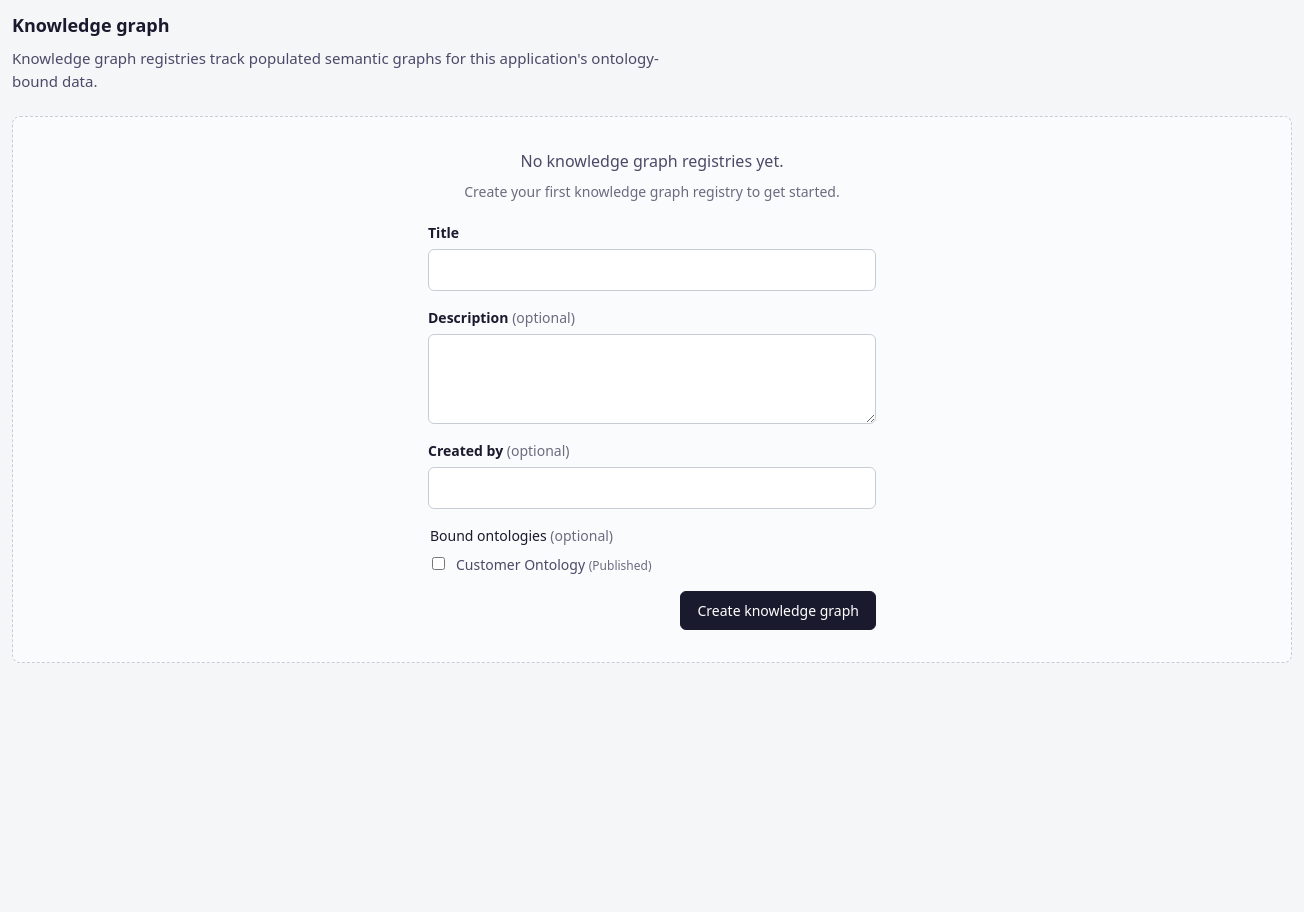
it: KnowledgeGraphsPage › creates knowledge graph from empty state and refreshes list
Check: the form named "Create knowledge graph" is shown, box [428, 222, 876, 630]
In the field labelled "Title": point(652, 270) [428, 249, 876, 291], type "New Knowledge Graph"
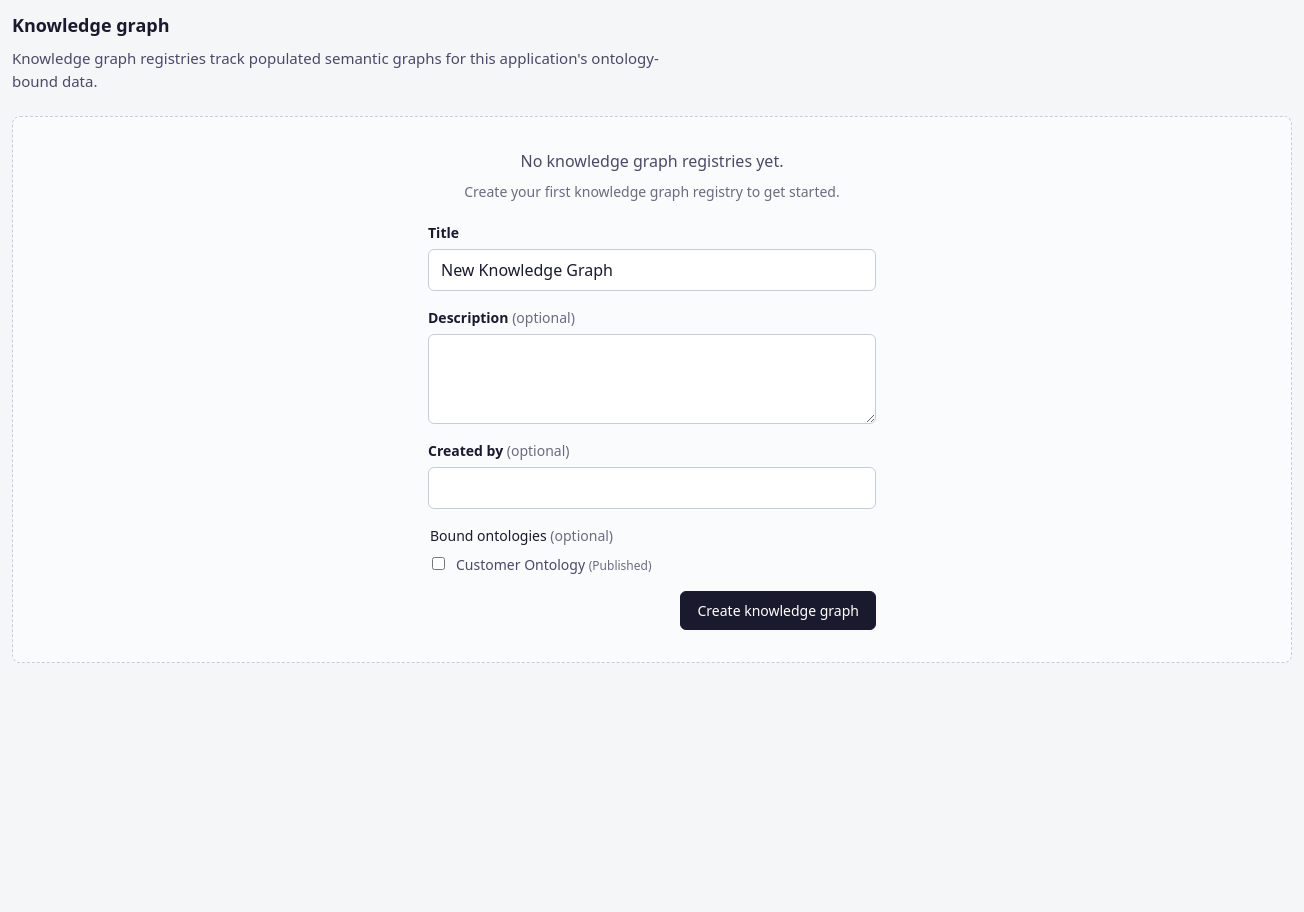
Click the button "Create knowledge graph": point(778, 610) [680, 591, 876, 630]
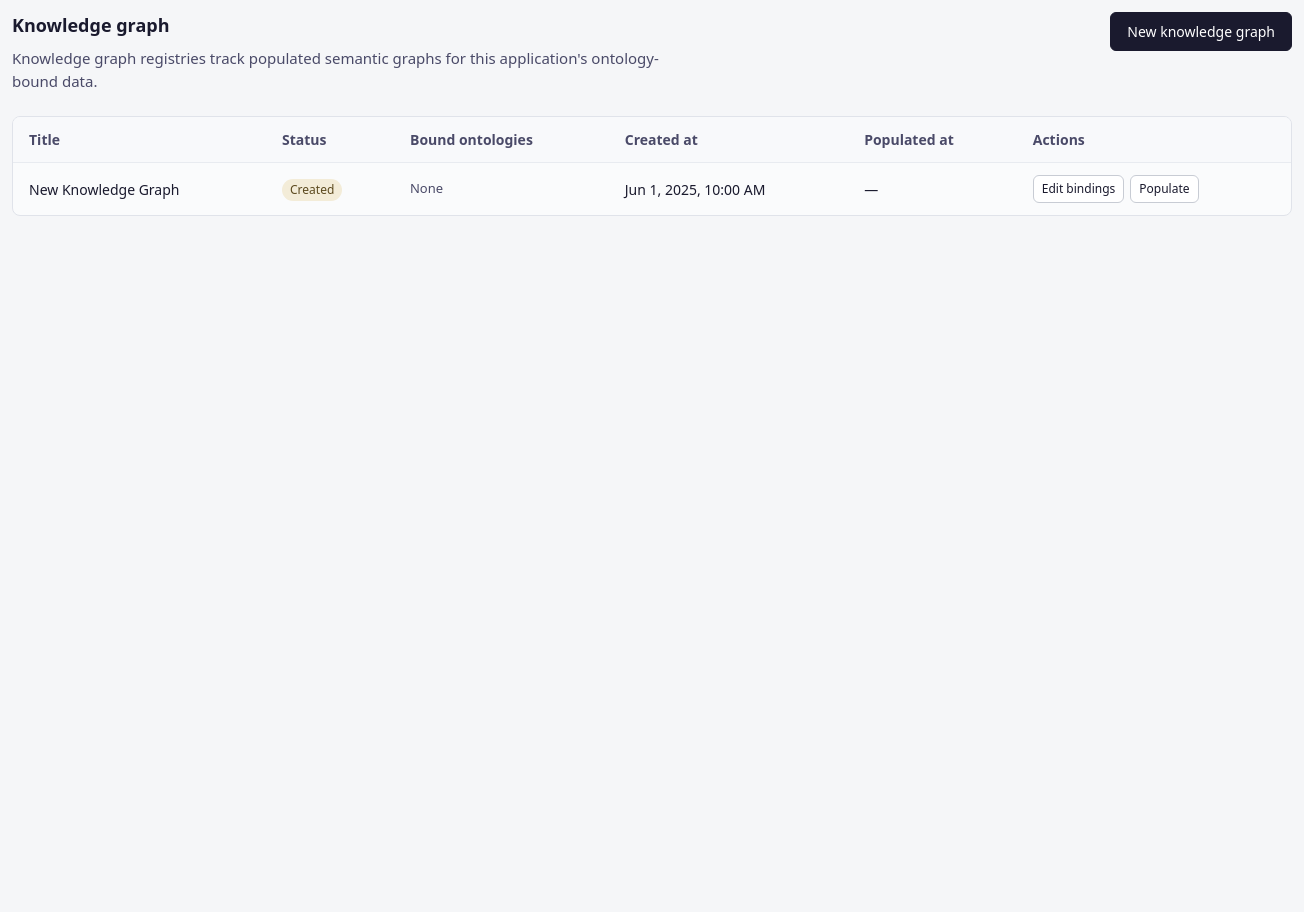
Check: the text "New Knowledge Graph" is shown, box [13, 162, 266, 215]
